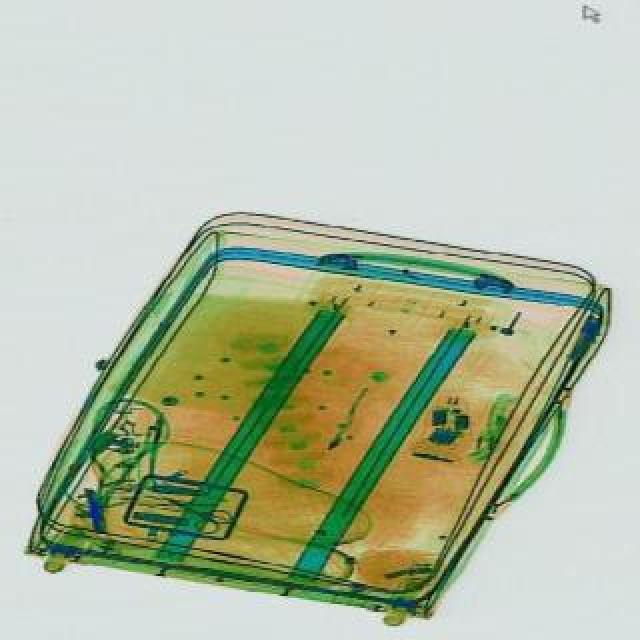pliers: (154, 480, 232, 540)
